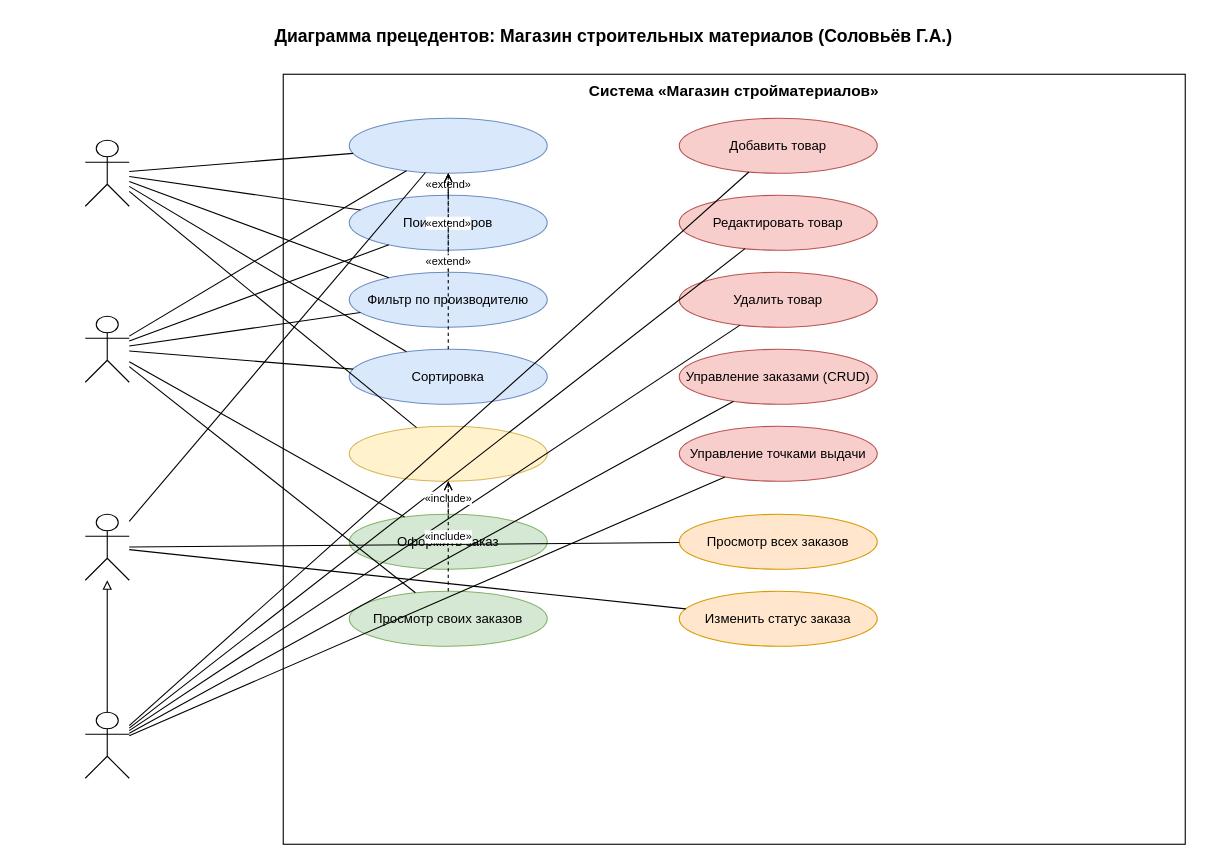
Some shapes in this 1225 by 864 pixel diagram are drawn without their labels. The centre of each missing label's shape, as x and y in pixels:
"Авторизация" belongs at (x=447, y=453).
"Авторизированный клиент" belongs at (x=106, y=348).
"Администратор" belongs at (x=106, y=744).
"Гость" belongs at (x=106, y=172).
"Менеджер" belongs at (x=106, y=546).
"Просмотр каталога" belongs at (x=447, y=145).
